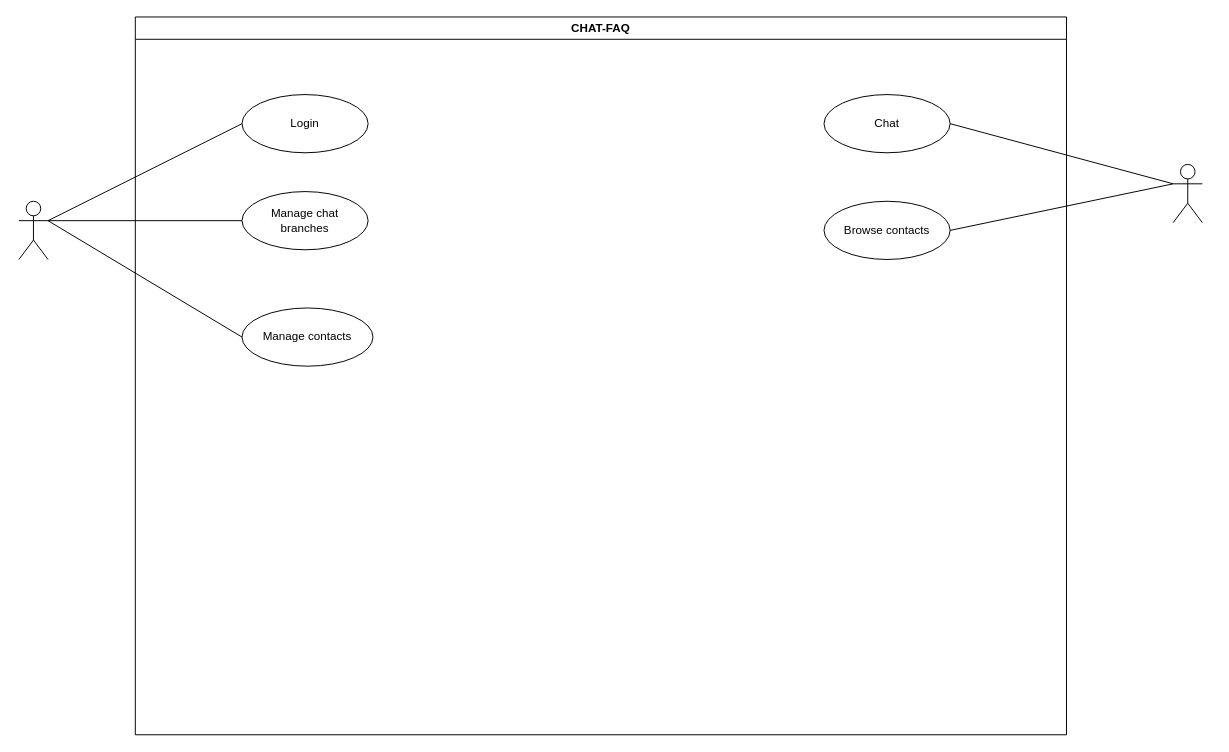
The diagram is 1229 pixels wide and 752 high, and some of its shapes have lost their labels. The centre of each missing label's shape, as x and y in pixels:
Admin: the point at 33,229
Customer: the point at 1187,193
